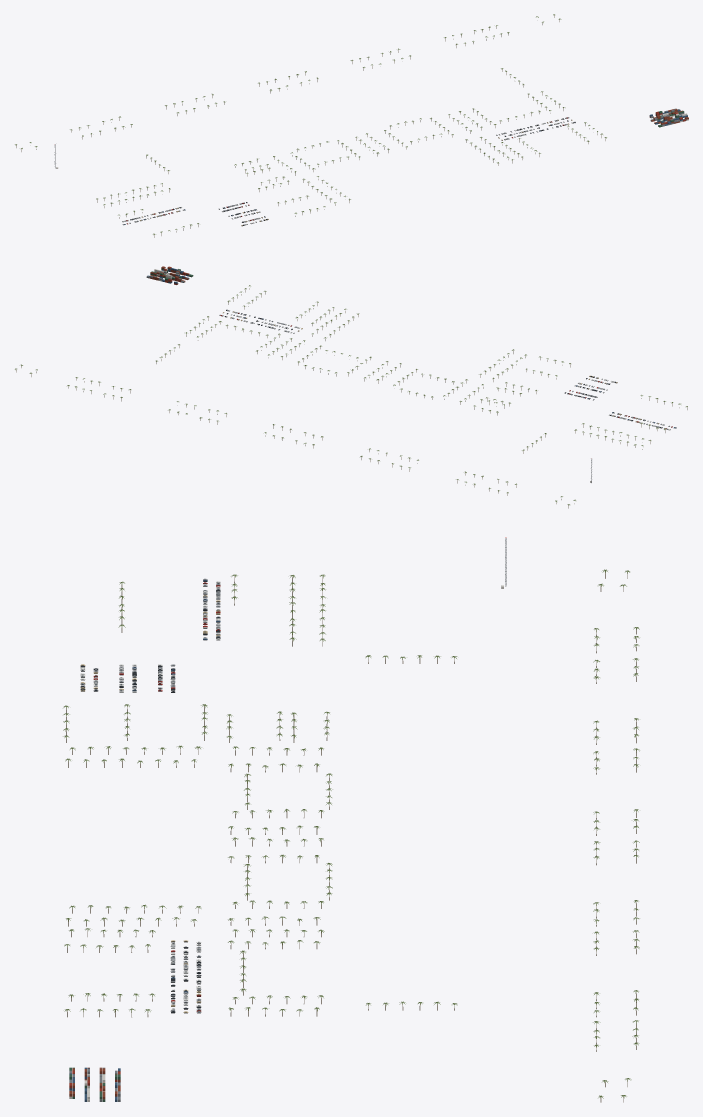
Rendered from site-props.glb.
3 views of the same model, one above another, from view 1: azimuth 30°, elevation 25°; view 2: azimuth 150°, elevation 25°; view 3: azimuth 270°, elevation 25° (orthographic). The views are drawn at different scales.
Parts seen in each view (by area): view 1: props__palm_leaf, props__palm_trunk; view 2: props__palm_leaf, props__palm_trunk; view 3: props__palm_leaf, props__palm_trunk, props__car_white.
Boxes of the visible parts, x1=… form: props__palm_leaf: x1=15, y1=14, x2=606, y2=234; props__palm_trunk: x1=16, y1=15, x2=605, y2=237; props__palm_leaf: x1=15, y1=285, x2=687, y2=505; props__palm_trunk: x1=16, y1=288, x2=687, y2=508; props__palm_leaf: x1=63, y1=569, x2=639, y2=1098; props__palm_trunk: x1=66, y1=572, x2=636, y2=1102; props__car_white: x1=80, y1=581, x2=220, y2=1010.
Size of the model in its own units: 1163 by 50.79 by 539.
